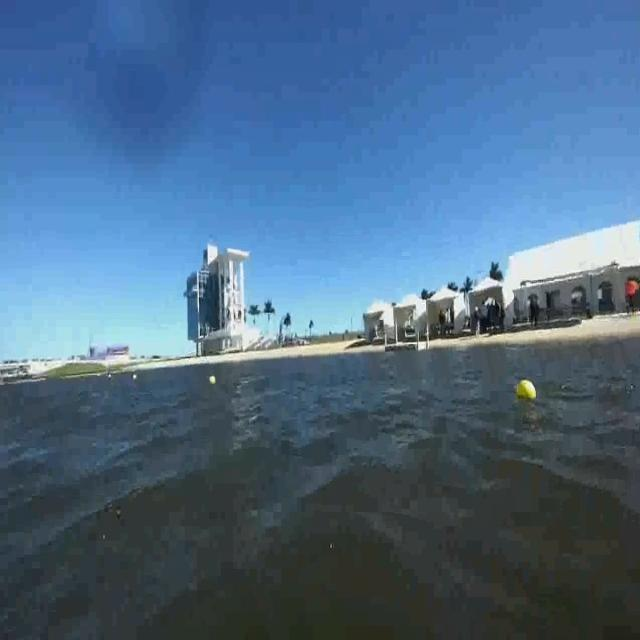yellow-buoy: (514, 378, 536, 396)
